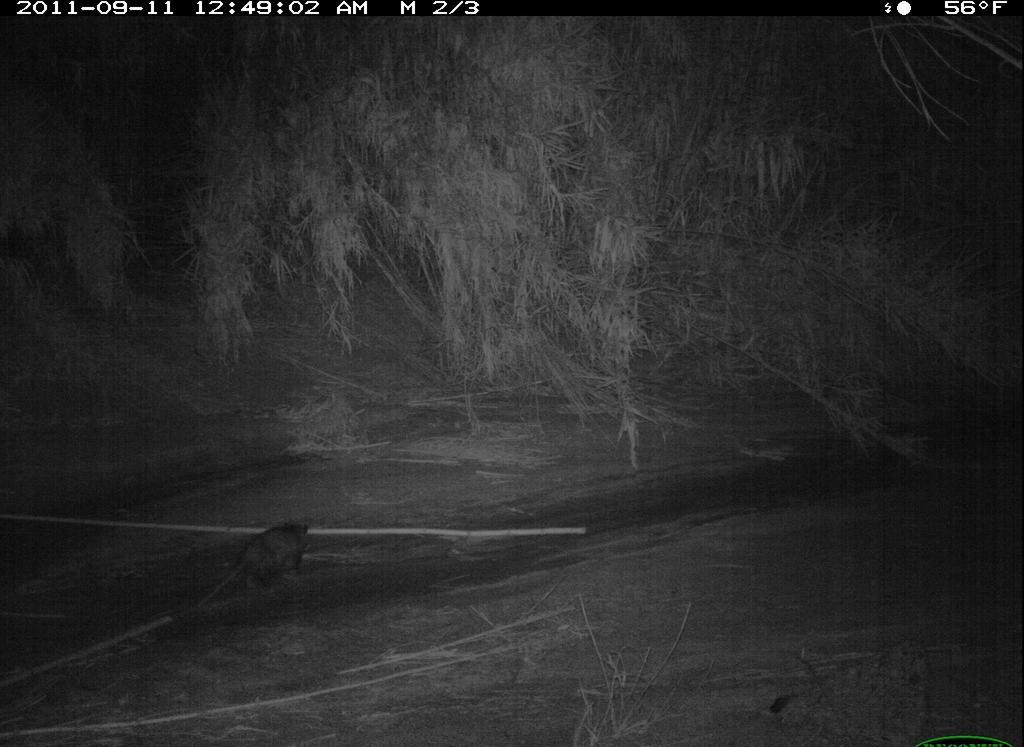opossum: (185, 514, 327, 620)
